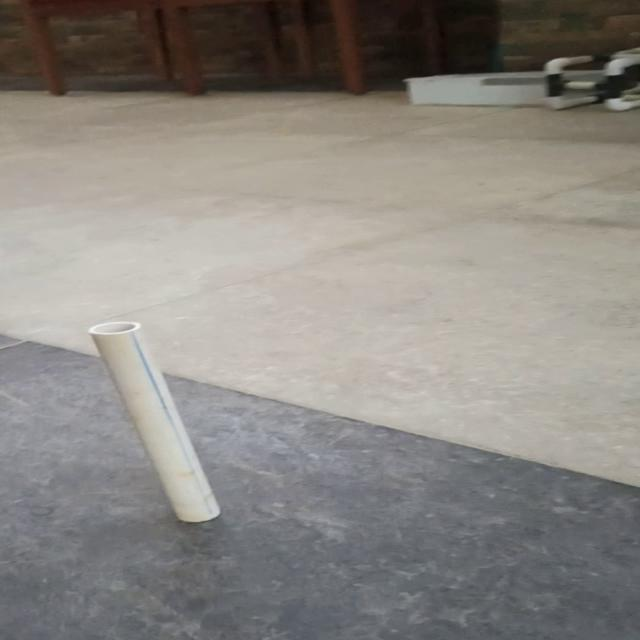Cube: (86, 320, 222, 523)
